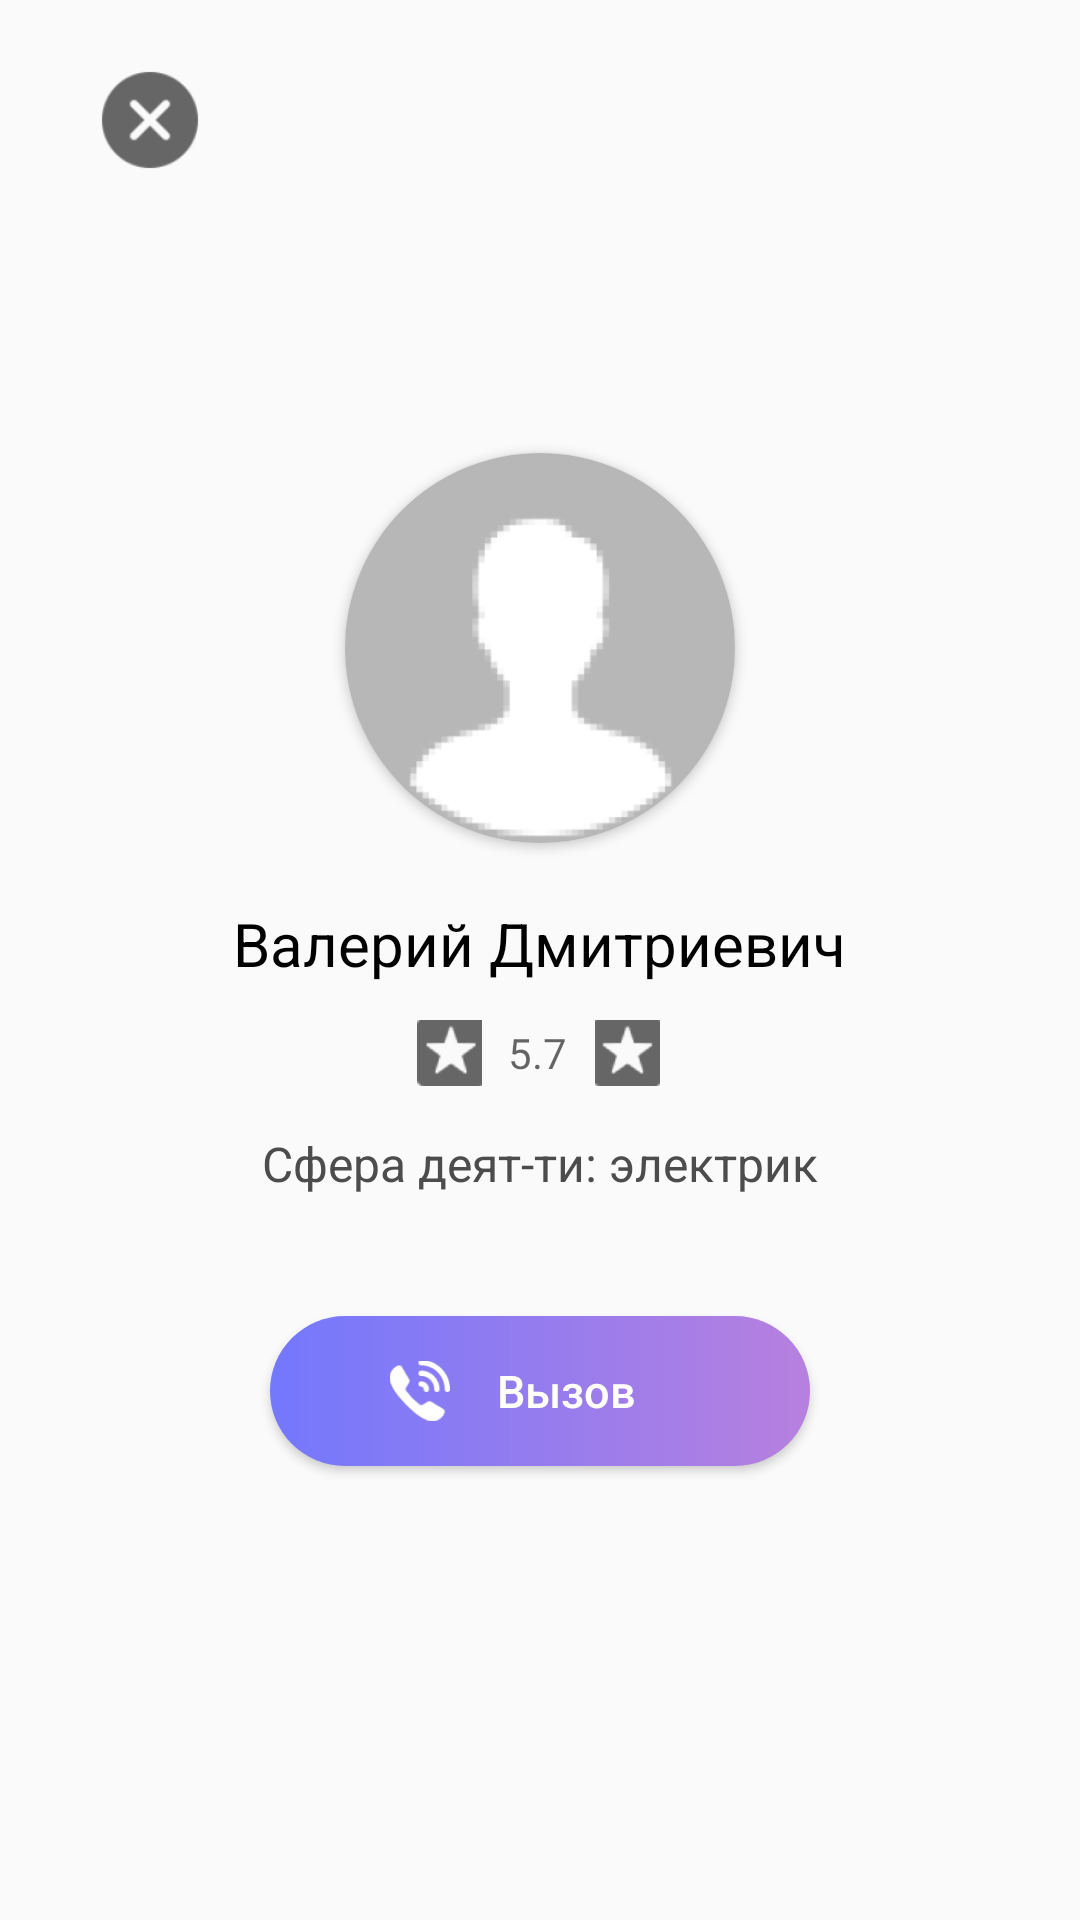

Where to tap for icons on this 1080px×1920px app screen, as (x=x, y=y):
star: (x=449, y=1053), (x=627, y=1053)
